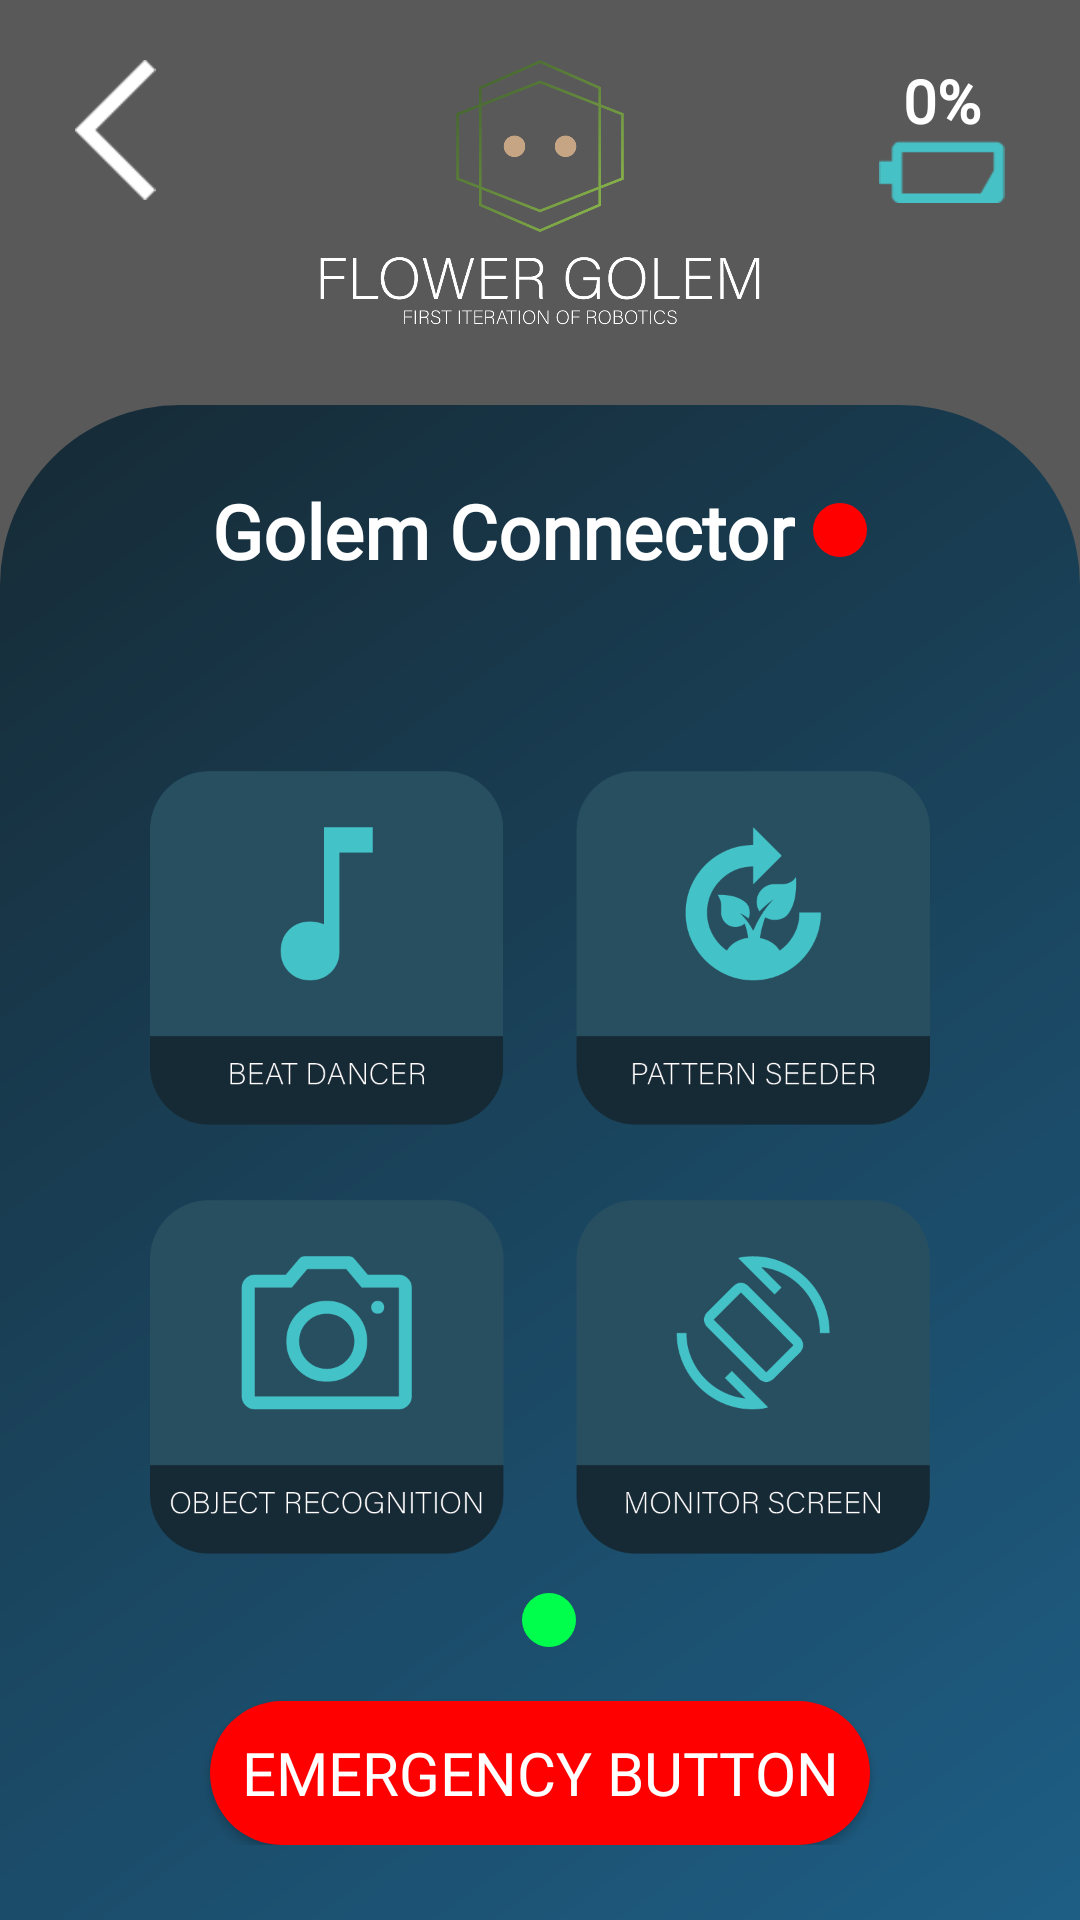

Named icons in this screenshot (1080x1920) and their centers, point (x, y):
arrowback: point (115, 130)
battery: point (942, 172)
camera: point (327, 1377)
view: point (753, 1377)
